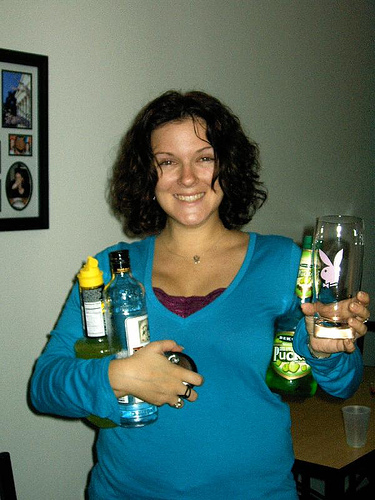without_mask: (123, 99, 268, 237)
